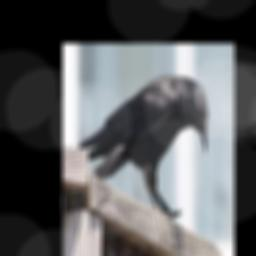Crow: (76, 73, 208, 218)
